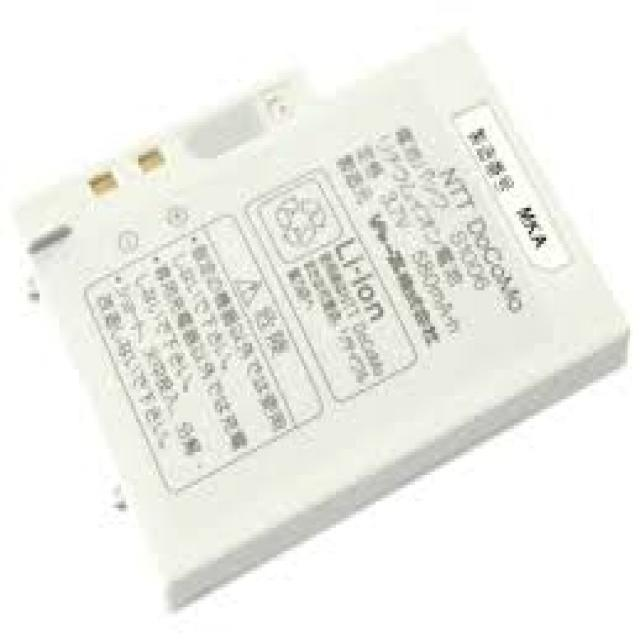battery: (15, 26, 628, 612)
